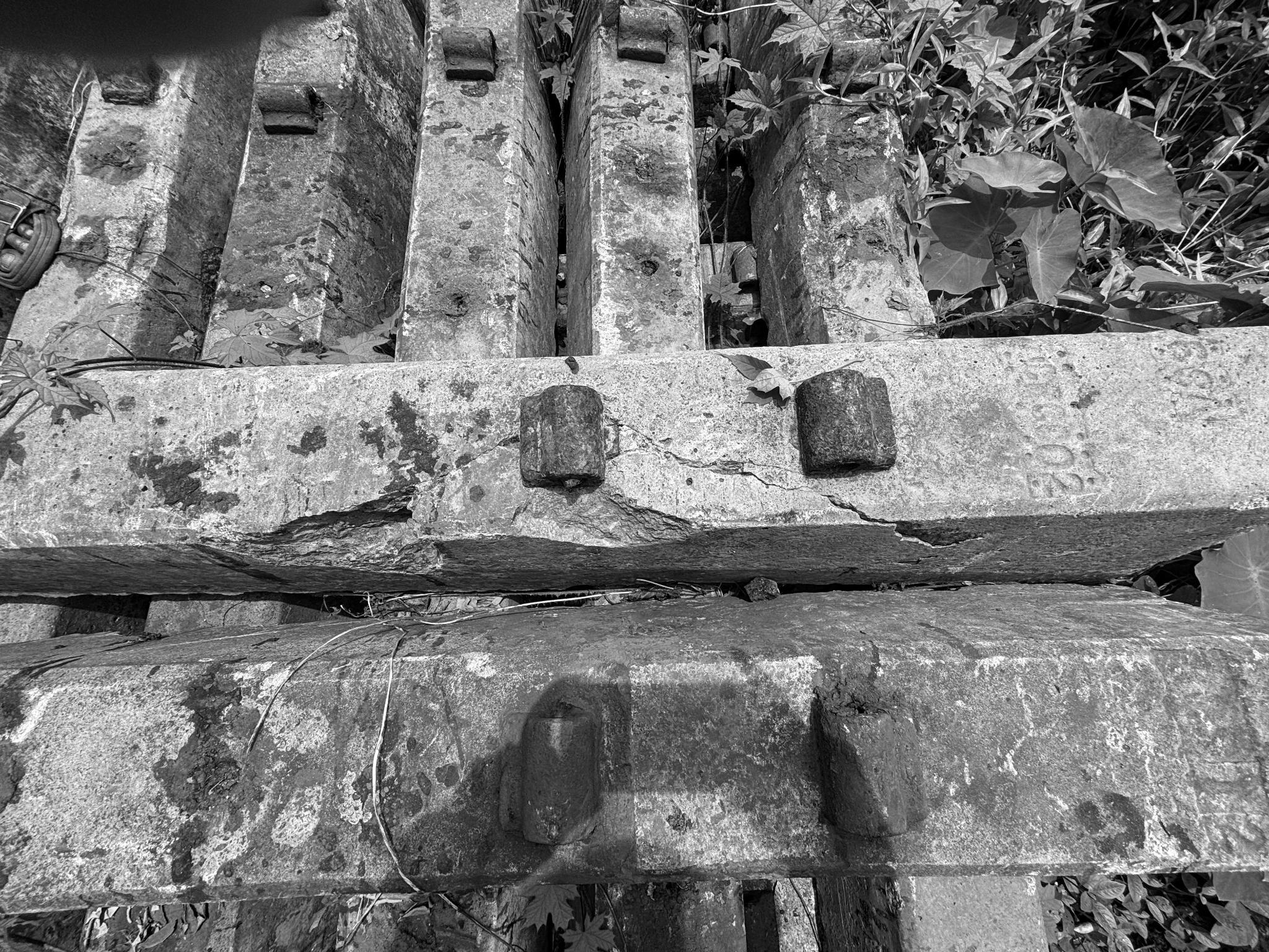cracks under rail seat: (174, 424, 553, 641), (601, 418, 1019, 581), (504, 482, 709, 554)
